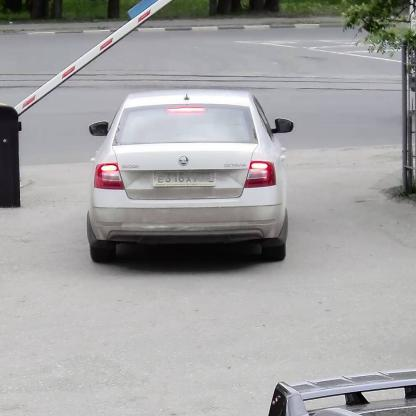plate: (154, 169, 216, 187)
